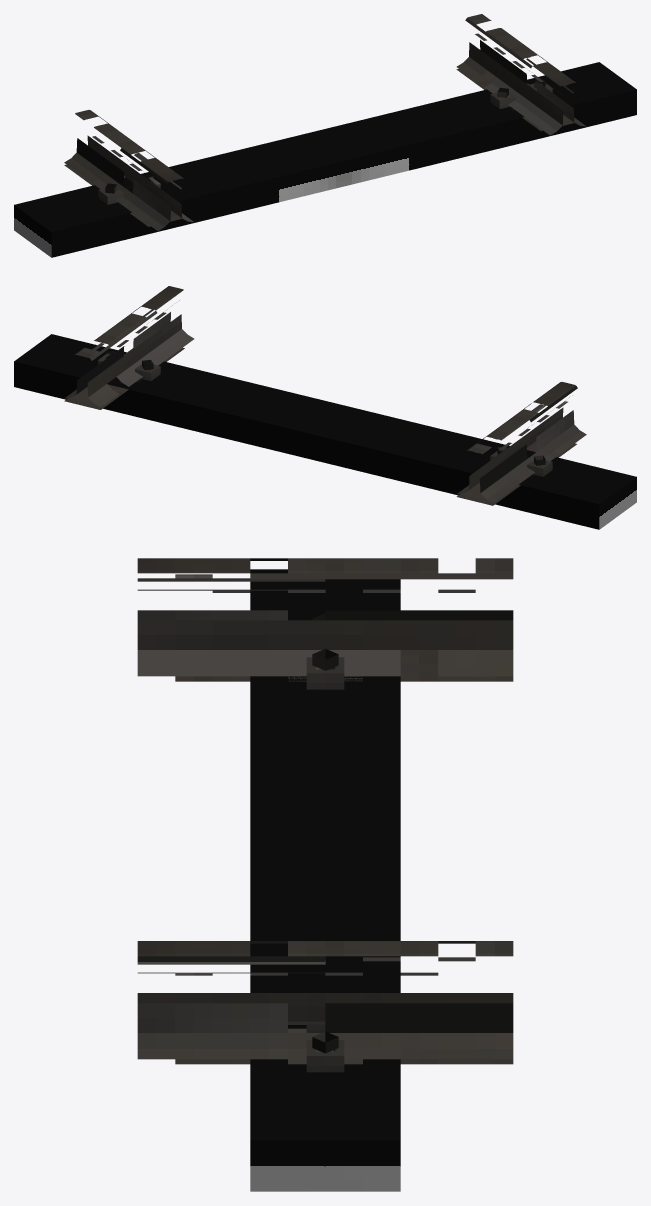
Rendered from drrc_rail_concrete_sleeper.obj.
3 renders of one model, top to bottom at view 1: azimuth 30°, elevation 25°; view 2: azimuth 150°, elevation 25°; view 3: azimuth 270°, elevation 25°, orthographic. The views are drawn at different scales.
Visible parts, largest first — view 1: cuboid, rail; view 2: cuboid, rail; view 3: cuboid, rail.
Boxes of the visible parts, bbox=[...] form: cuboid: bbox=[14, 62, 636, 257]; rail: bbox=[64, 14, 586, 230]; cuboid: bbox=[14, 334, 636, 529]; rail: bbox=[64, 286, 586, 505]; cuboid: bbox=[250, 569, 400, 1191]; rail: bbox=[137, 558, 513, 1064].
Size of the model in its own units: 2.25 by 0.275 by 0.625.
Materials: 2 (2 with a texture image).
